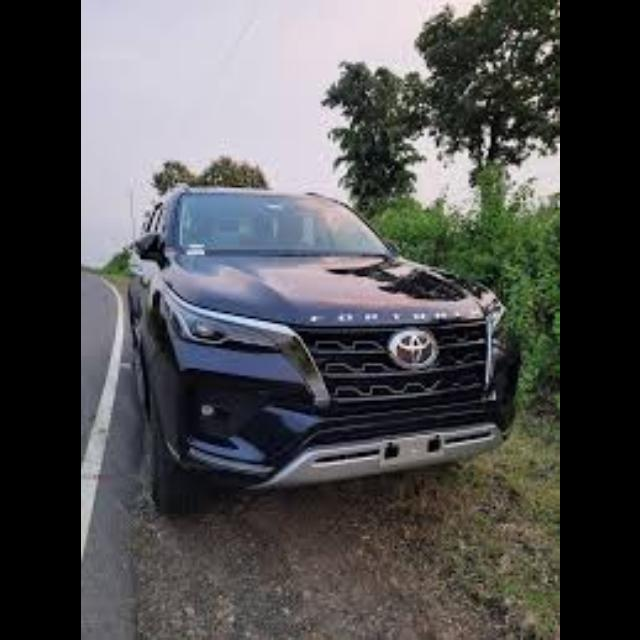number-plate: (374, 433, 436, 468)
vehicles: (115, 178, 515, 517)
